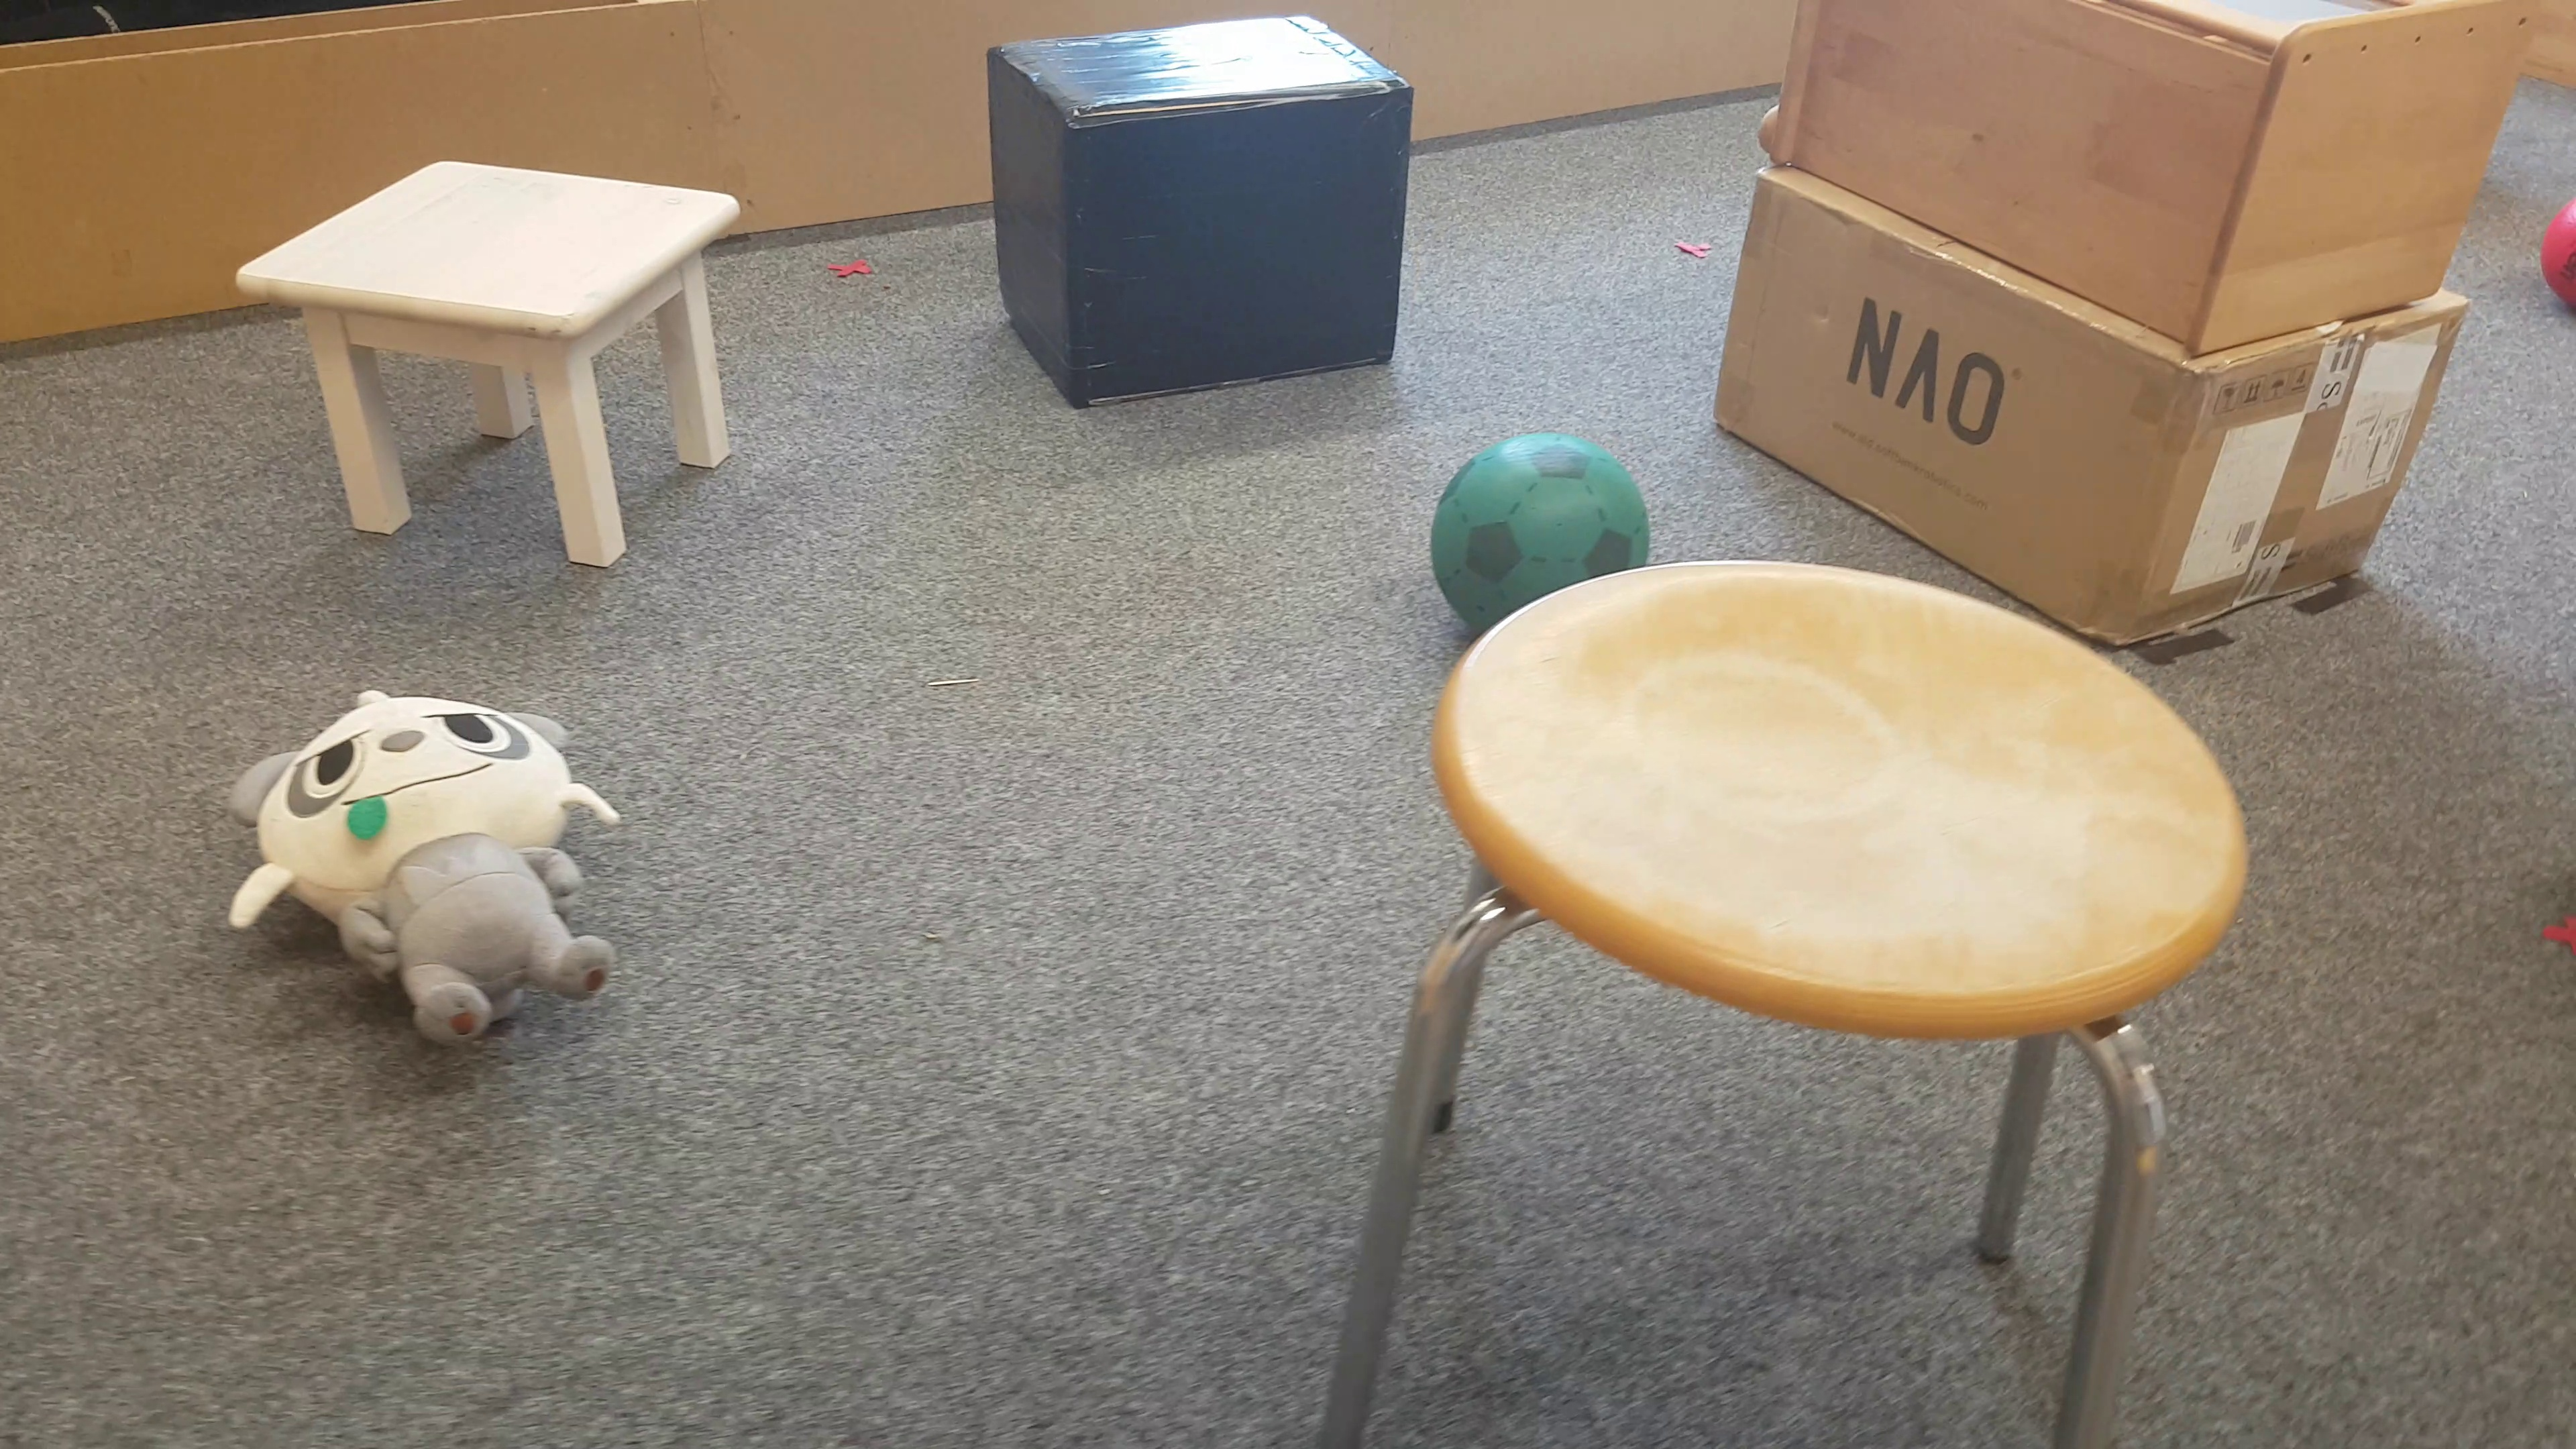grasp: (223, 683, 614, 1042)
kick: (1433, 439, 1638, 579), (2544, 193, 2576, 297)
push: (987, 16, 1419, 407)
